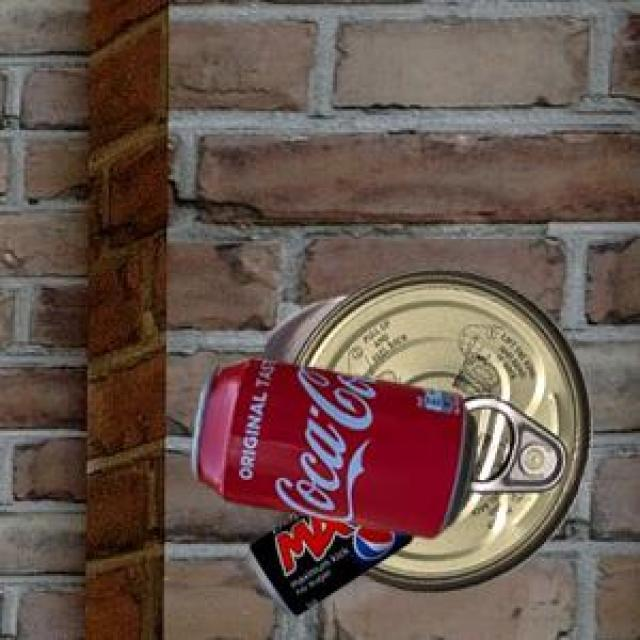Can: (259, 266, 590, 590), (189, 355, 473, 534), (244, 511, 411, 611)
